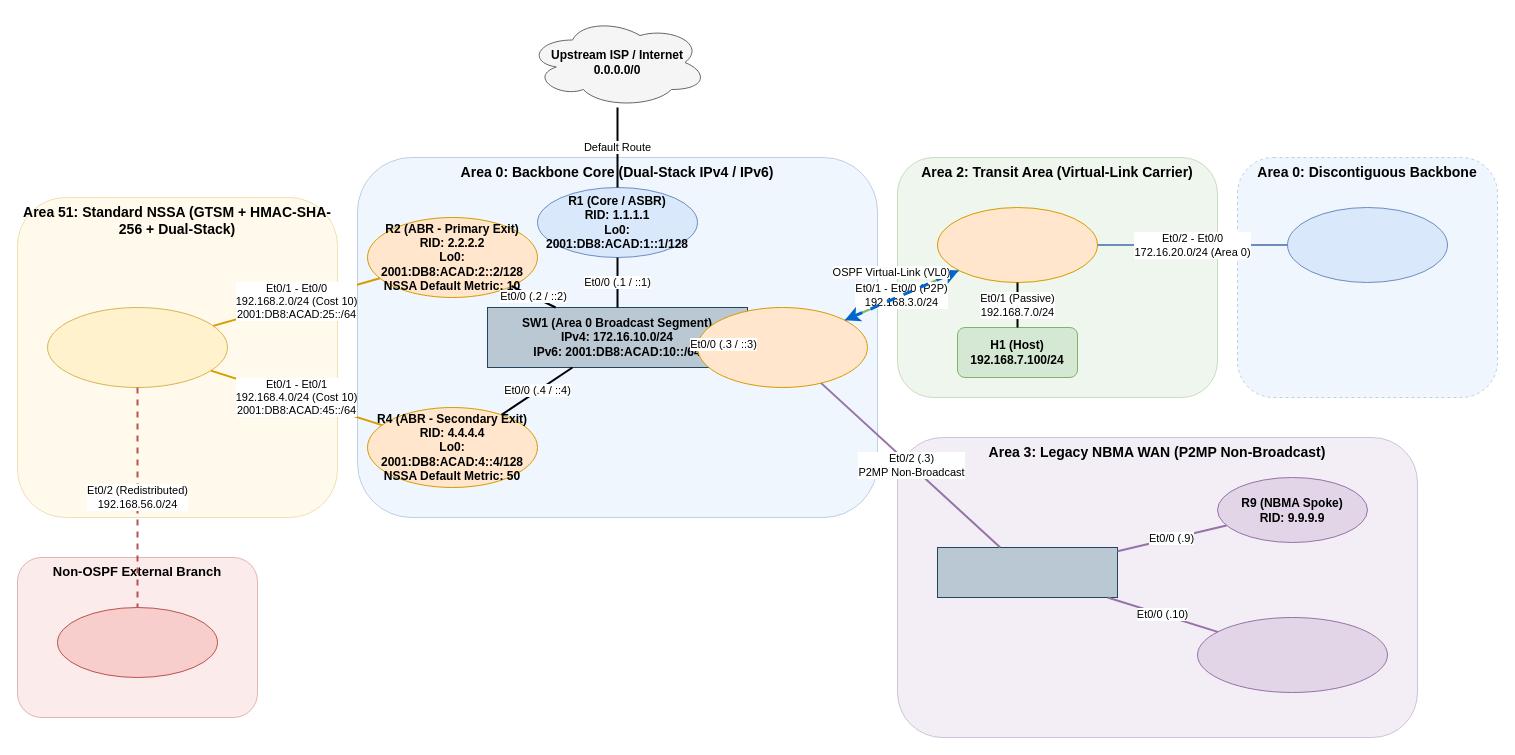
The diagram is 1515 pixels wide and 755 high, and some of its shapes have lost their labels. Here are the shapes that lost their labels. From the top down, the centre of each, then its label:
At [1017,244]: "R7 (Transit ABR) RID: 7.7.7.7 Lo1-3: 172.16.16.0/22".
At [1367,244]: "R8 (Partitioned Core) RID: 8.8.8.8 Lo0: 8.8.8.8/32".
At [137,347]: "R5 (NSSA ASBR) RID: 5.5.5.5 Lo0: 2001:DB8:ACAD:5::5/128 Summary: 172.16.0.0/18".
At [782,347]: "R3 (ABR / VL / NBMA Hub) RID: 3.3.3.3 Lo0: 2001:DB8:ACAD:3::3/128".
At [1027,572]: "SW2 (NBMA Cloud: 192.168.9.0/24)".
At [137,642]: "R6 (External Branch) 6.6.6.6/32 172.16.30.0 - 33.0/24".
At [1292,654]: "R10 (NBMA Spoke) RID: 10.10.10.10 RIB Filter: Block 5.5.5.5, 7.7.7.7".
